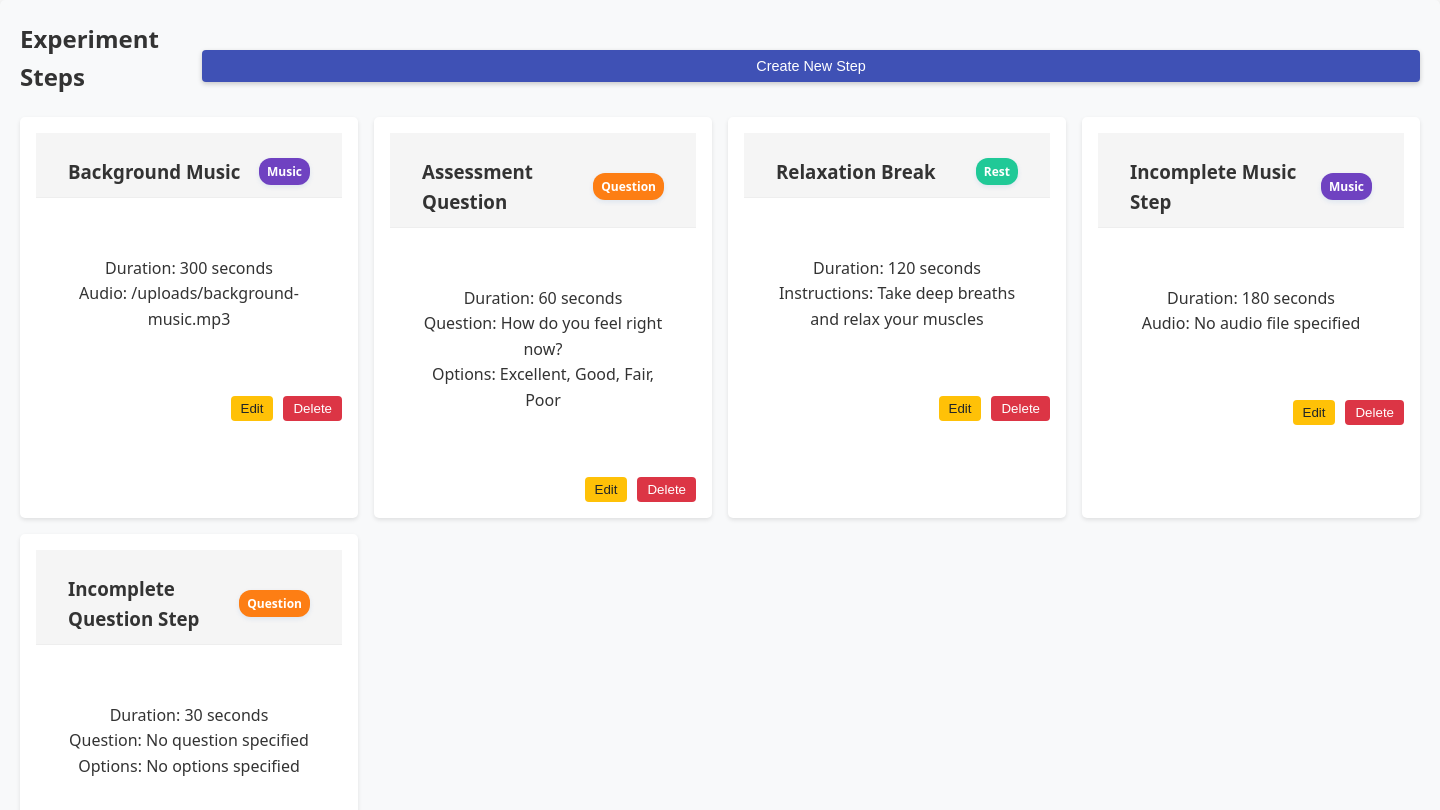
StepList Component › Step Deletion › deletes step when confirmed and updates local state
Check: the heading "Background Music" is shown, box [68,157,240,187]
Click the button "Delete" below "/uploads/background-music.mp3" at (313, 408), box [284,396,342,420]
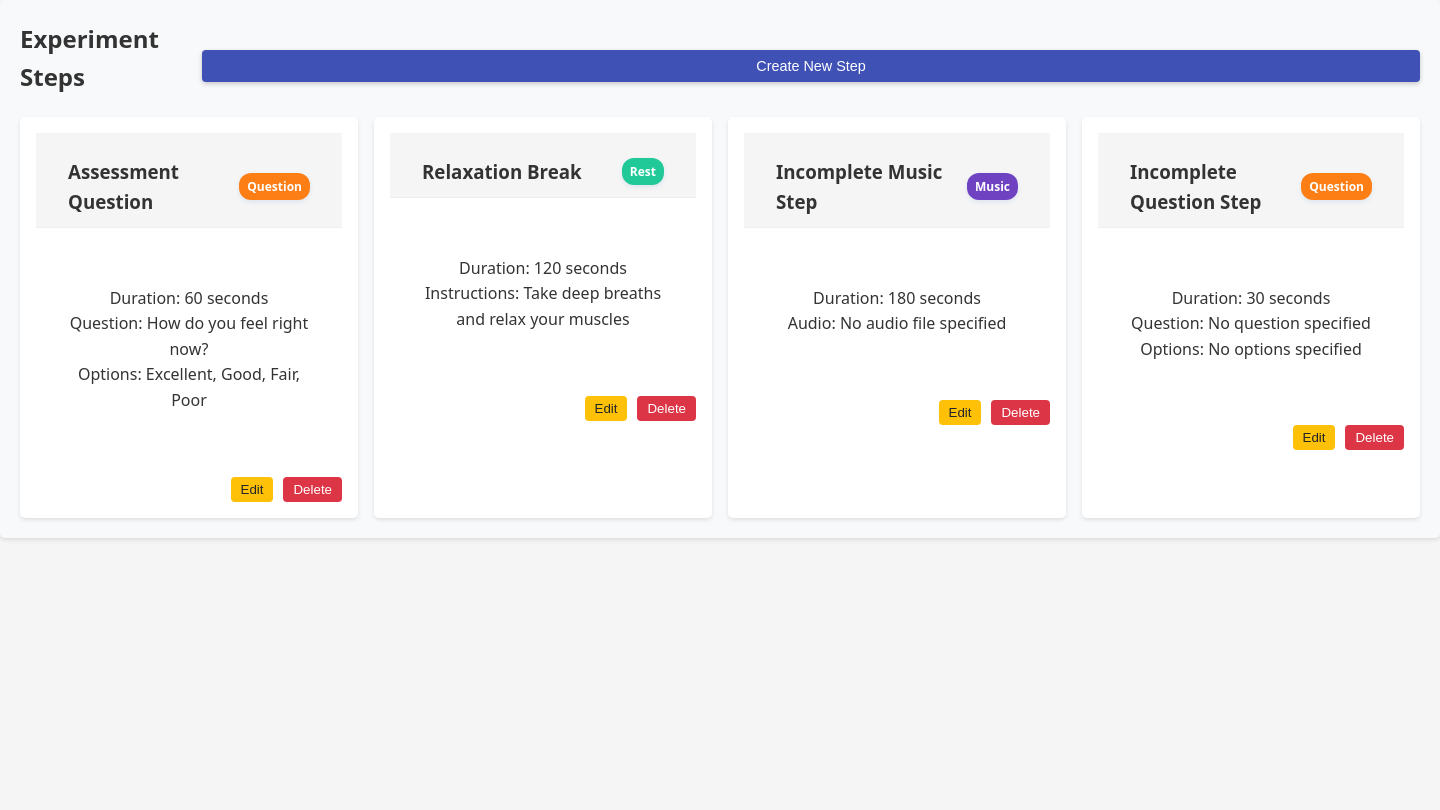
Check: the heading "Background Music" is gone
